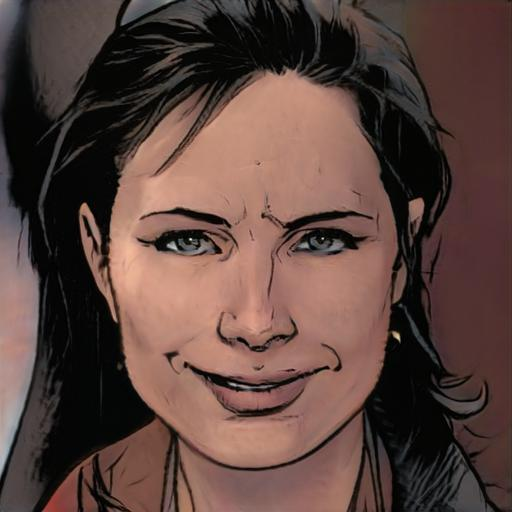NoHuman: (0, 0, 512, 510)
